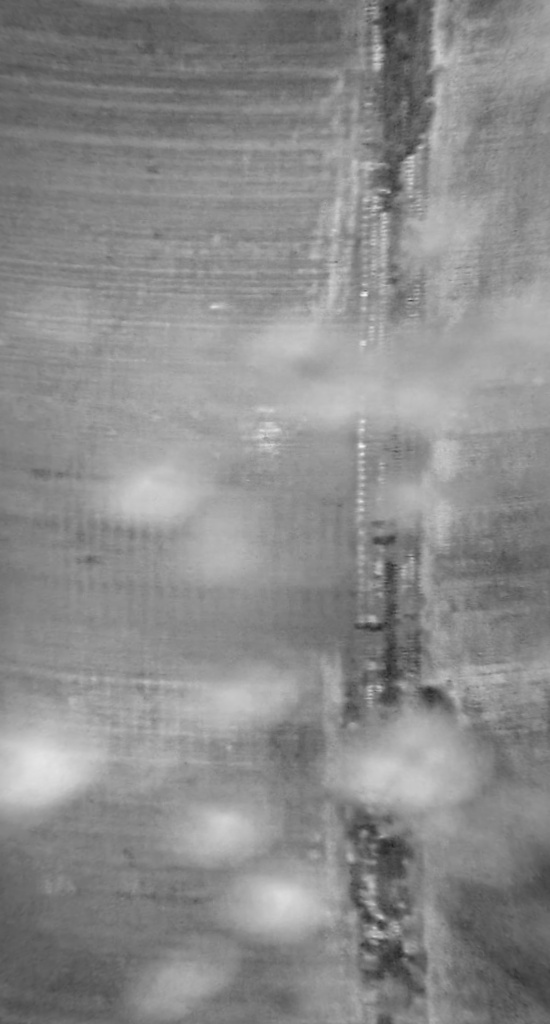splice: (348, 1, 441, 1024)
